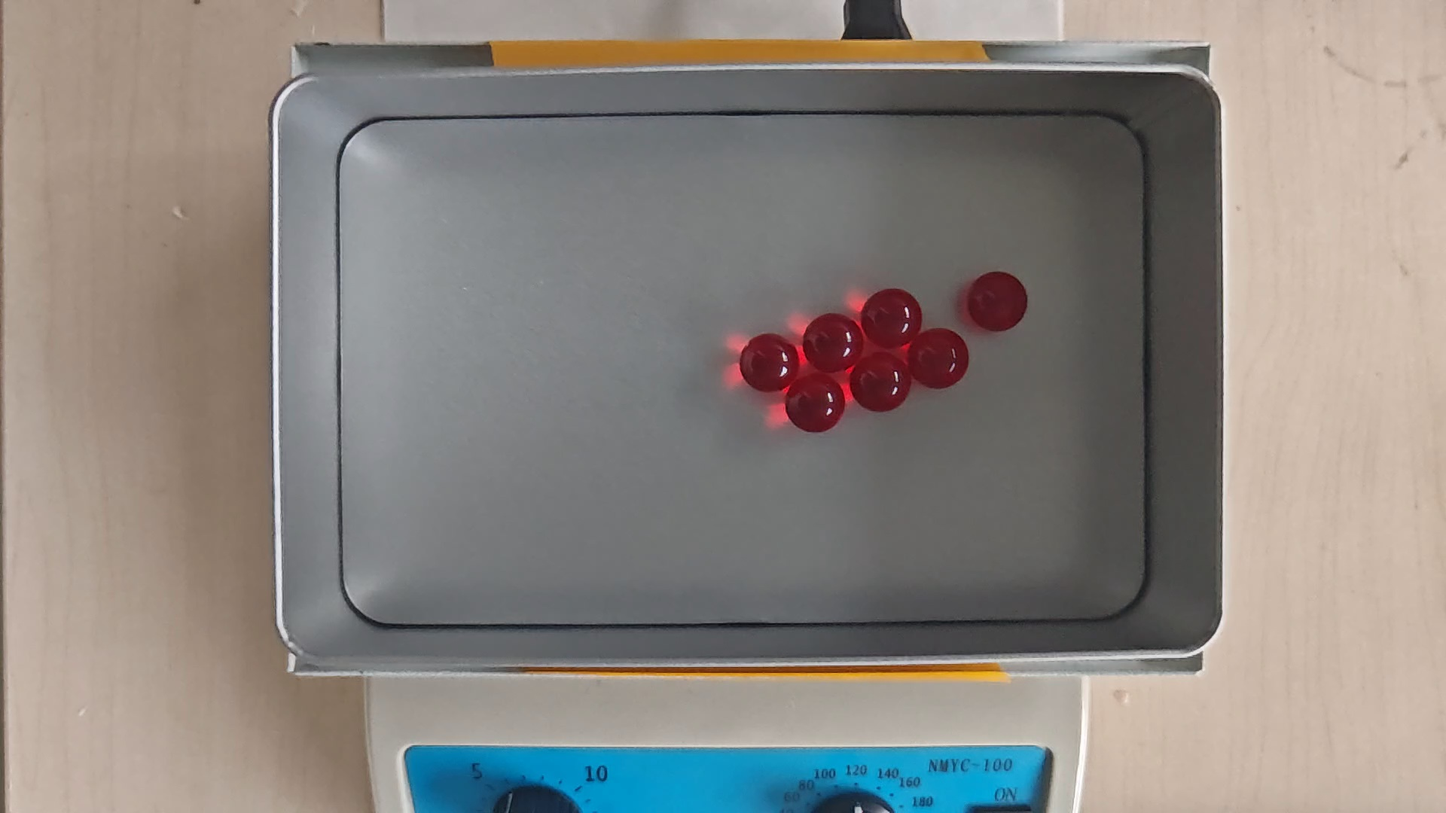ball: (909, 328, 969, 391), (968, 271, 1027, 331), (853, 354, 911, 411), (789, 374, 844, 434), (740, 333, 796, 391), (804, 313, 859, 369), (865, 291, 921, 346)
container: (335, 116, 1145, 623)
